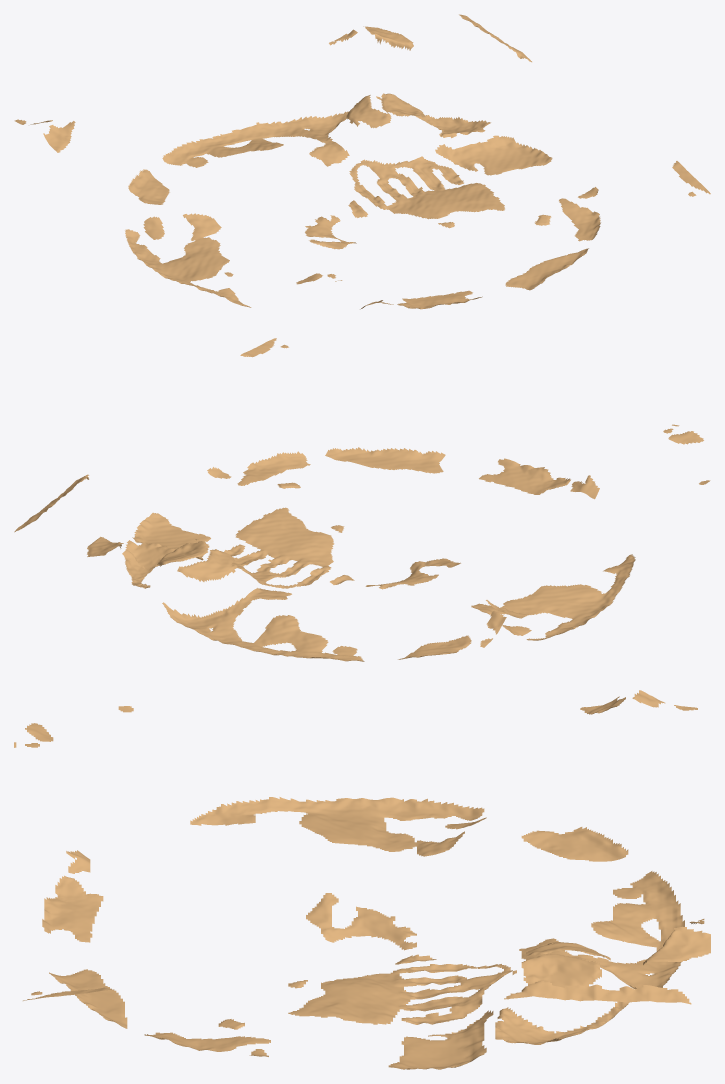
File: deep_sand.glb
The picture shows the model from 3 angles, top to bottom: view 1: azimuth 30°, elevation 25°; view 2: azimuth 150°, elevation 25°; view 3: azimuth 270°, elevation 25°; orthographic projection. The views are drawn at different scales.
Visible parts, largest first — view 1: deep_sand; view 2: deep_sand; view 3: deep_sand.
Part boxes in pixels (box(x1,y1,x2,y2)): deep_sand: box(14, 14, 710, 309); deep_sand: box(14, 338, 710, 661); deep_sand: box(14, 690, 710, 1069).
Size of the model in its own units: 448 by 85.47 by 448.
